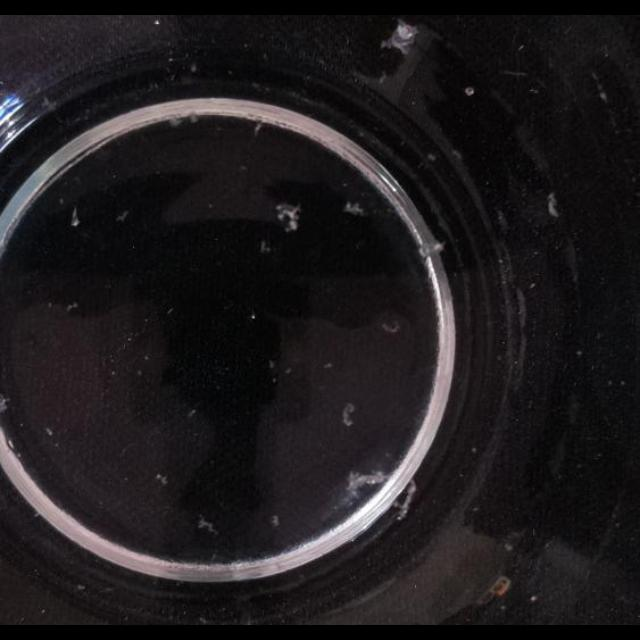Fibre: (511, 282, 529, 361), (345, 467, 387, 495), (392, 481, 418, 523), (276, 202, 302, 232), (196, 514, 218, 534), (342, 402, 356, 428), (342, 200, 364, 216), (594, 80, 608, 104), (546, 194, 560, 218), (71, 206, 81, 228), (154, 472, 168, 486), (115, 210, 128, 222), (254, 122, 262, 136)
microbeads: (66, 302, 78, 314), (270, 515, 280, 527), (188, 408, 196, 418), (268, 359, 276, 369), (323, 361, 333, 369), (166, 306, 174, 316), (44, 428, 52, 437), (528, 282, 536, 290), (576, 348, 584, 356), (250, 312, 256, 321), (76, 584, 85, 590)
